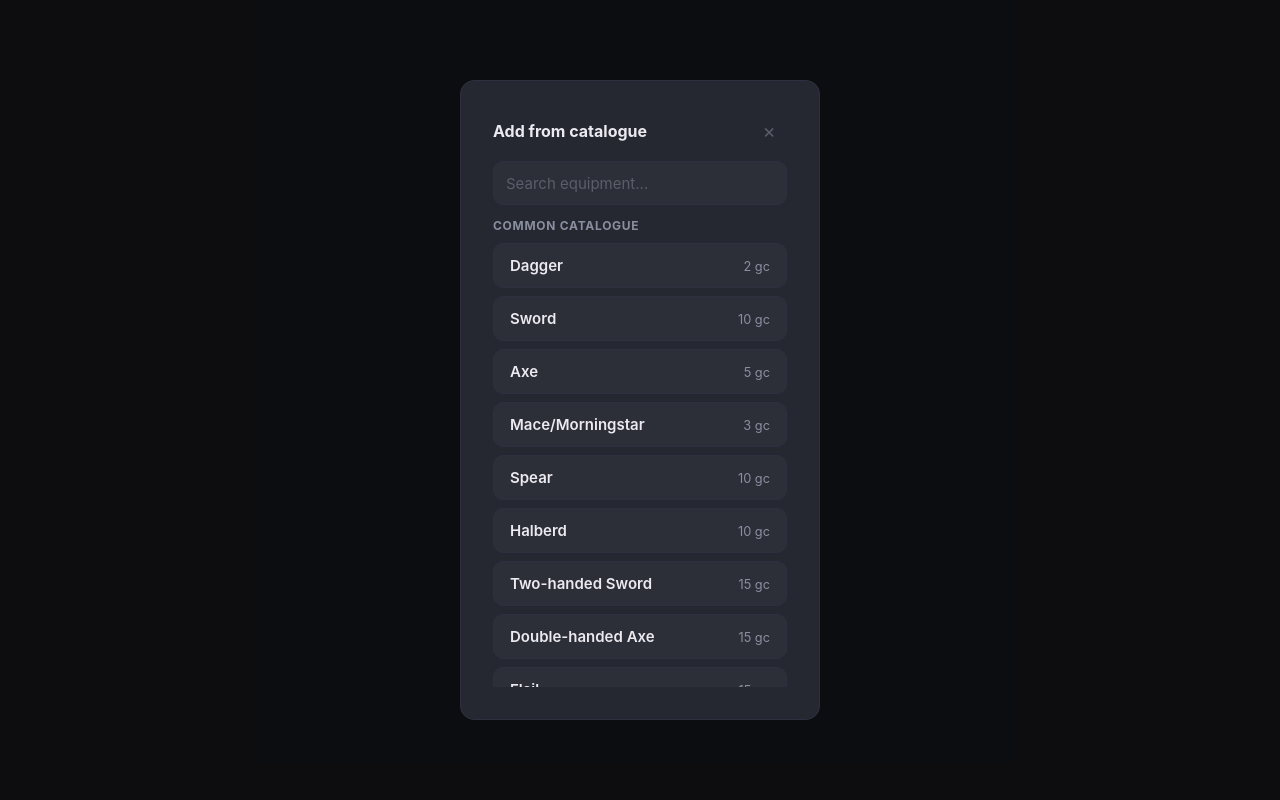
Test: EquipmentPicker › search filtering › shows "No matches." when search has no results in common catalogue
Type "zzznomatches" into the field labelled "Search equipment..." at (640, 183), box [493,161,787,205]
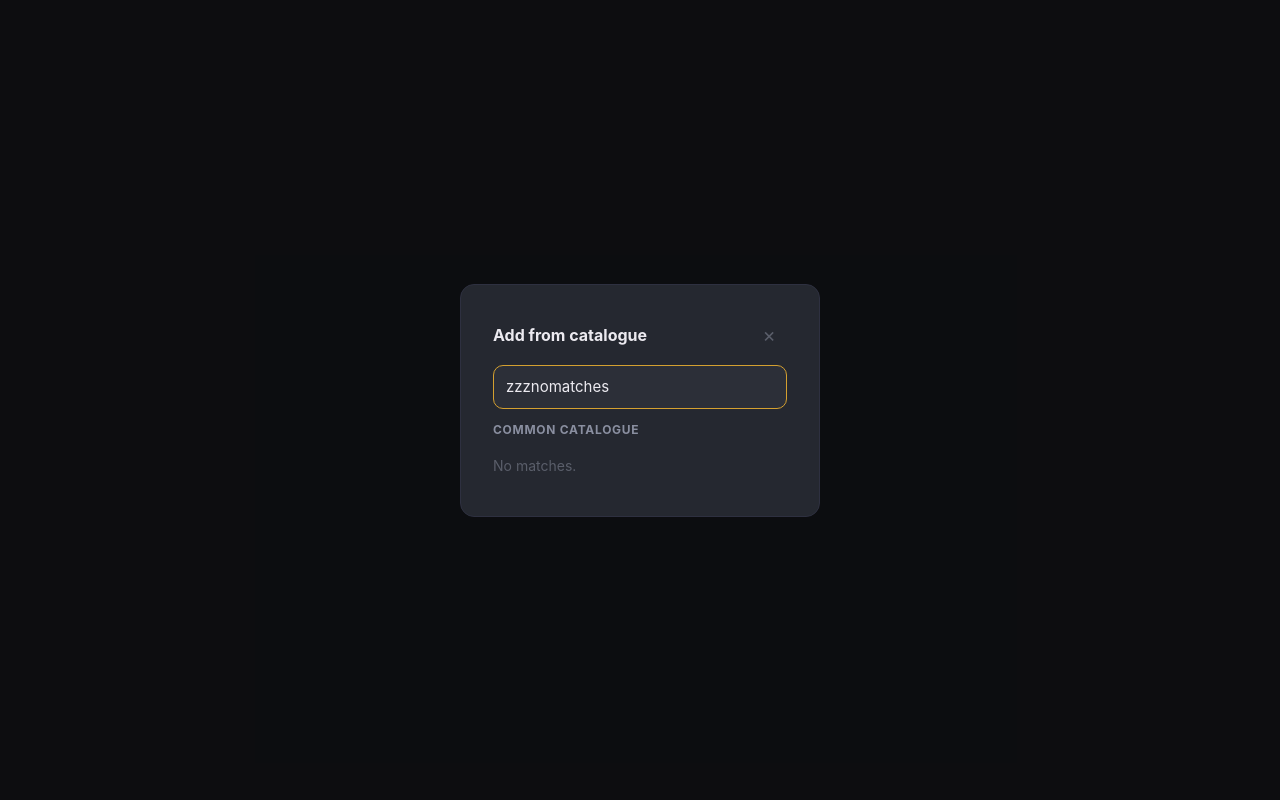
Now the text "No matches." is shown, box [493,456,576,474]
